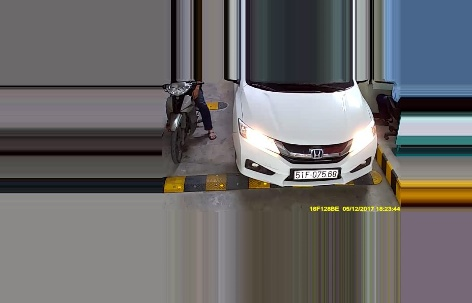plate: (290, 166, 340, 179)
